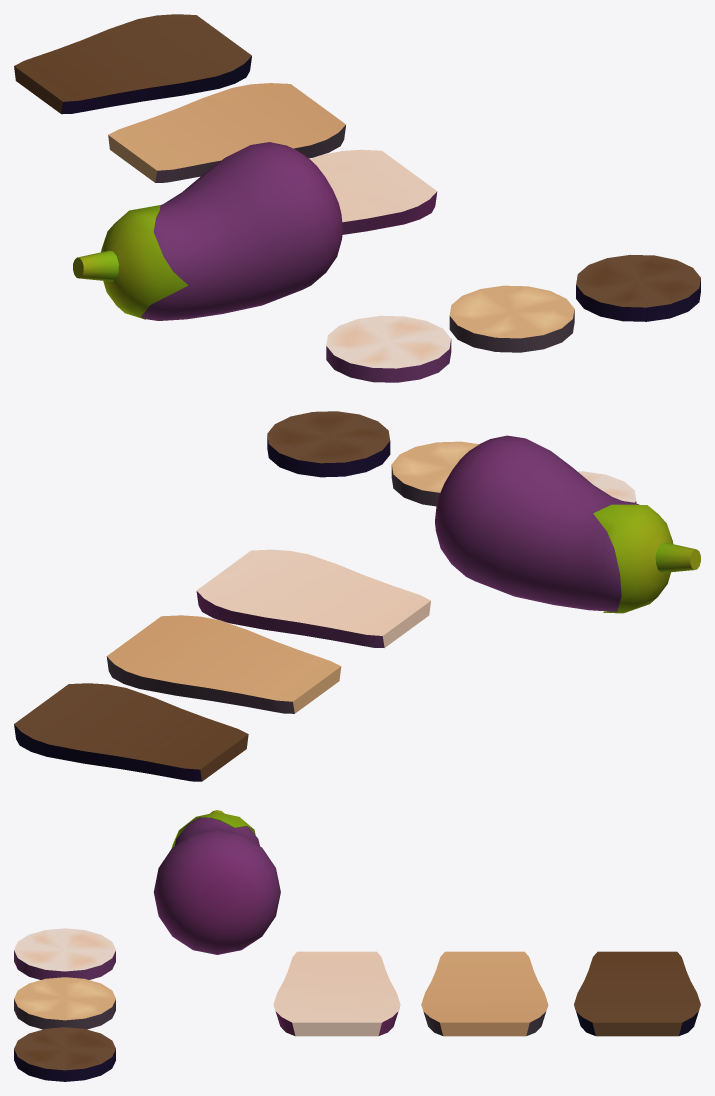
File: aubergine.fbx
3 views of the same model, one above another, from view 1: azimuth 30°, elevation 25°; view 2: azimuth 150°, elevation 25°; view 3: azimuth 270°, elevation 25° (orthographic). The views are drawn at different scales.
Visible parts, largest first — view 1: aubergine, aubergineSlice_Burnt, aubergineSlice_Cooked, auberginePiece_Raw, auberginePiece_Cooked, auberginePiece_Burnt, aubergineSlice_Raw, aubergine_leaf; view 2: aubergine, aubergineSlice_Burnt, aubergineSlice_Raw, aubergineSlice_Cooked, auberginePiece_Burnt, aubergine_leaf, auberginePiece_Cooked, auberginePiece_Raw; view 3: aubergine, aubergineSlice_Burnt, aubergineSlice_Raw, aubergineSlice_Cooked, auberginePiece_Burnt, auberginePiece_Cooked, auberginePiece_Raw, aubergine_leaf.
Boxes of the visible parts, <box> form: aubergine: <box>141,142,342,320</box>; aubergineSlice_Burnt: <box>14,14,251,114</box>; aubergineSlice_Cooked: <box>108,83,345,182</box>; auberginePiece_Raw: <box>326,315,451,382</box>; auberginePiece_Cooked: <box>449,285,574,352</box>; auberginePiece_Burnt: <box>576,254,700,321</box>; aubergineSlice_Raw: <box>310,149,437,234</box>; aubergine_leaf: <box>73,205,188,319</box>; aubergine: <box>435,435,639,611</box>; aubergineSlice_Burnt: <box>14,683,248,781</box>; aubergineSlice_Raw: <box>196,549,430,647</box>; aubergineSlice_Cooked: <box>106,615,341,713</box>; auberginePiece_Burnt: <box>267,411,390,477</box>; aubergine_leaf: <box>593,504,700,613</box>; auberginePiece_Cooked: <box>391,441,478,506</box>; auberginePiece_Raw: <box>577,471,636,502</box>; aubergine: <box>153,817,280,954</box>; aubergineSlice_Burnt: <box>574,951,700,1036</box>; aubergineSlice_Raw: <box>273,951,400,1036</box>; aubergineSlice_Cooked: <box>421,951,548,1036</box>; auberginePiece_Burnt: <box>14,1027,115,1081</box>; auberginePiece_Cooked: <box>14,977,115,1029</box>; auberginePiece_Raw: <box>14,928,115,979</box>; aubergine_leaf: <box>171,810,255,848</box>.
Size of the model in its own units: 3.83 by 5.38 by 1.02.
Materials: 1 (1 with a texture image).
